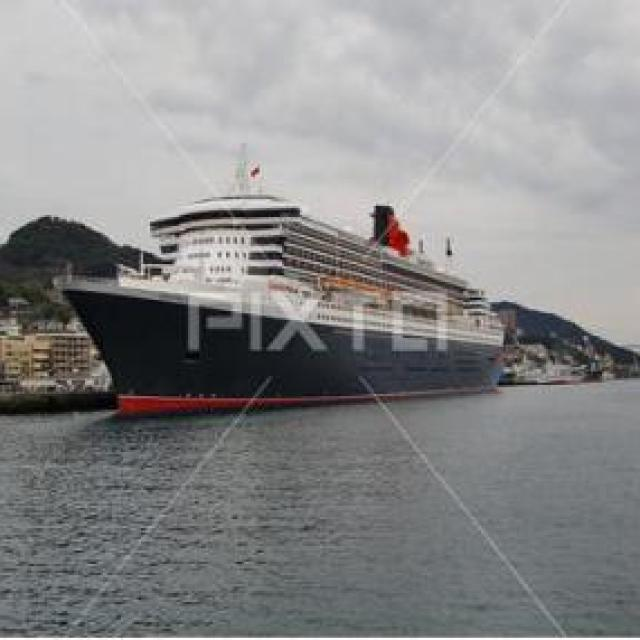passenger ship: (55, 177, 505, 405)
